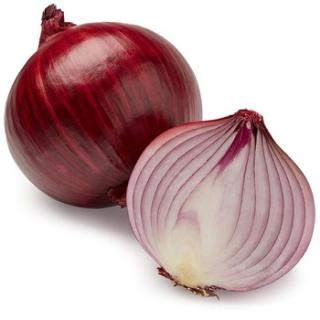Bawang Merah: (4, 4, 203, 209), (126, 108, 317, 300)
